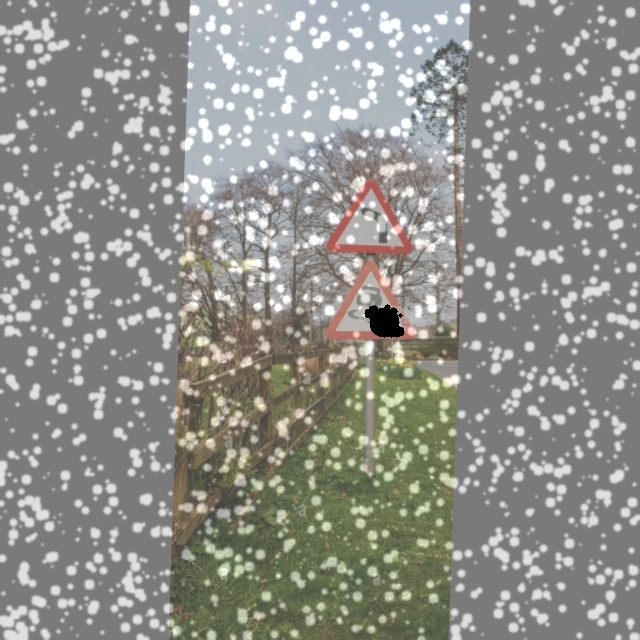Slippery_Road: (327, 258, 416, 345)
